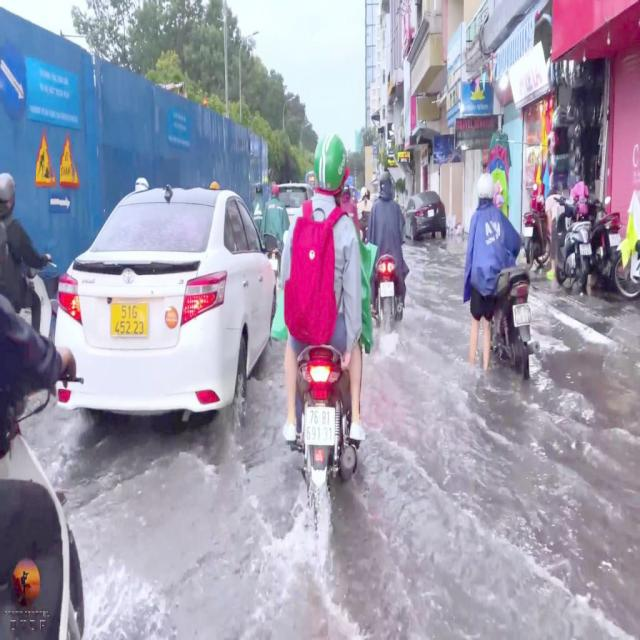cong_truong: (36, 130, 57, 185)
di_cham: (60, 133, 80, 186)
duong_mot_chieu: (51, 193, 70, 213)
huong_phai_di_vuot_chuong_ngai_vat_phai: (0, 44, 26, 118)
